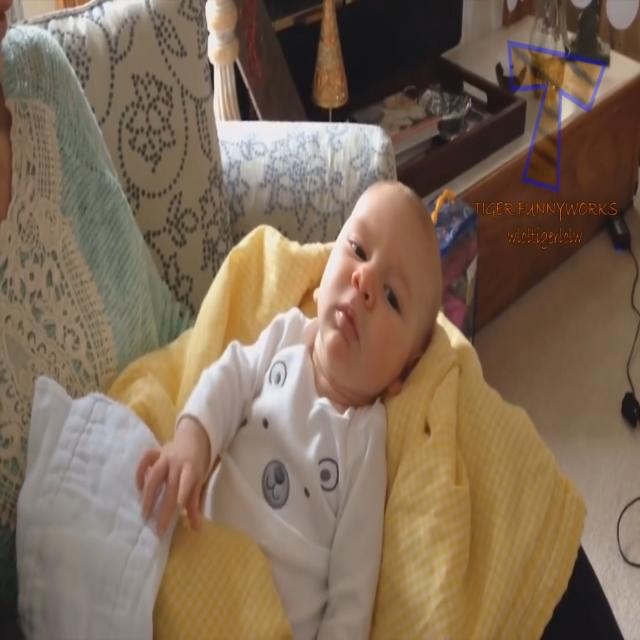safe: (188, 177, 441, 574)
